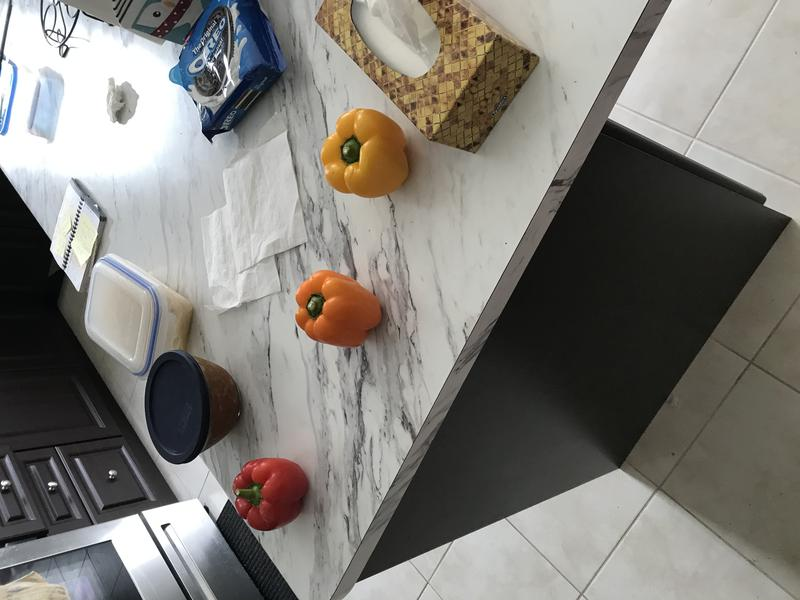orange_pepper: (294, 265, 387, 354)
red_pepper: (228, 455, 316, 536)
yellow_pepper: (312, 105, 420, 209)
